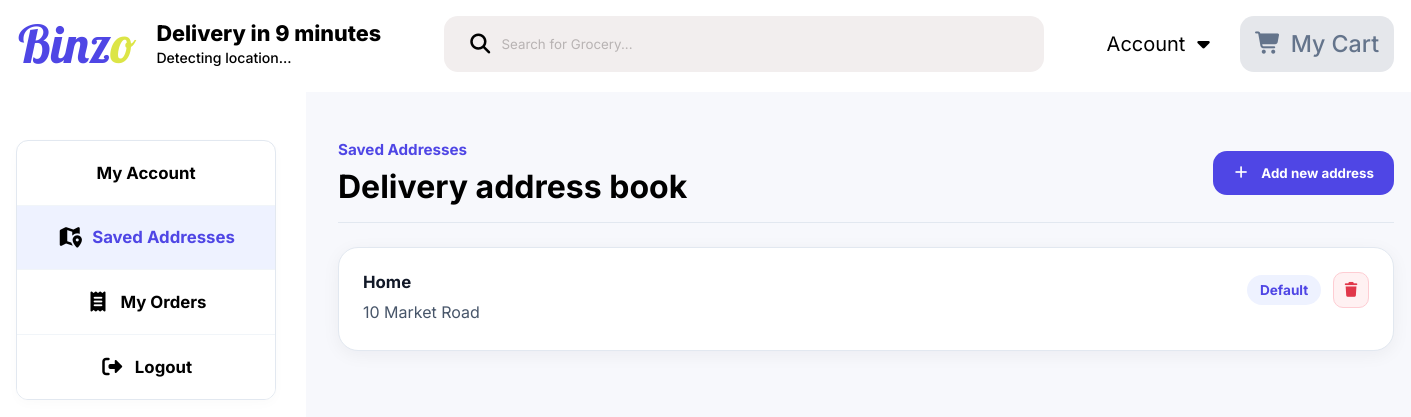
Test: OrdersPage integration › loads addresses and removes an address through the service then refreshes the list
expect the text "10 Market Road" is shown: met, box left=363, top=300, right=480, bottom=326
Click the button named "Delete Home address": click(1351, 290) left=1333, top=272, right=1369, bottom=308
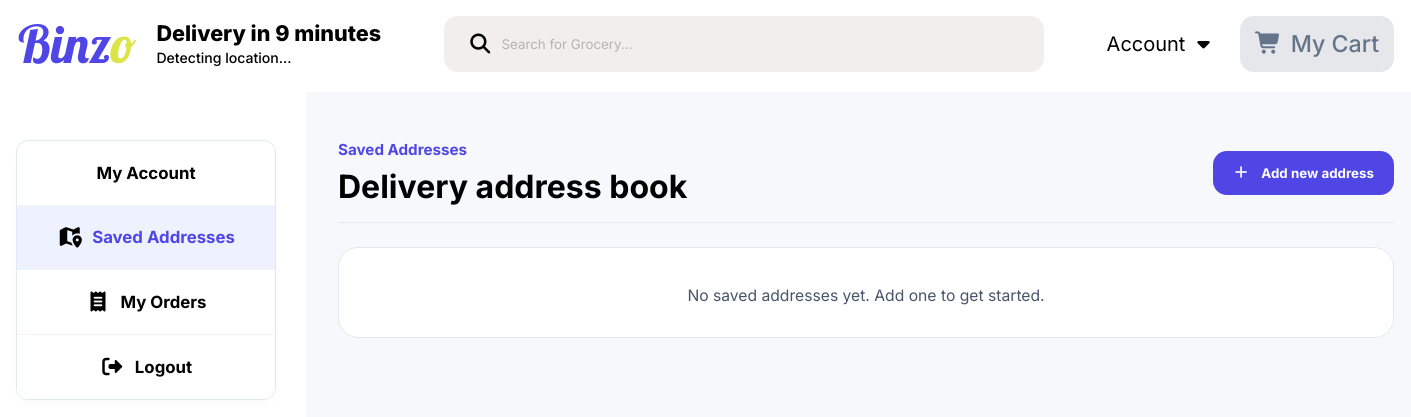
expect the text "10 Market Road" is gone: met
